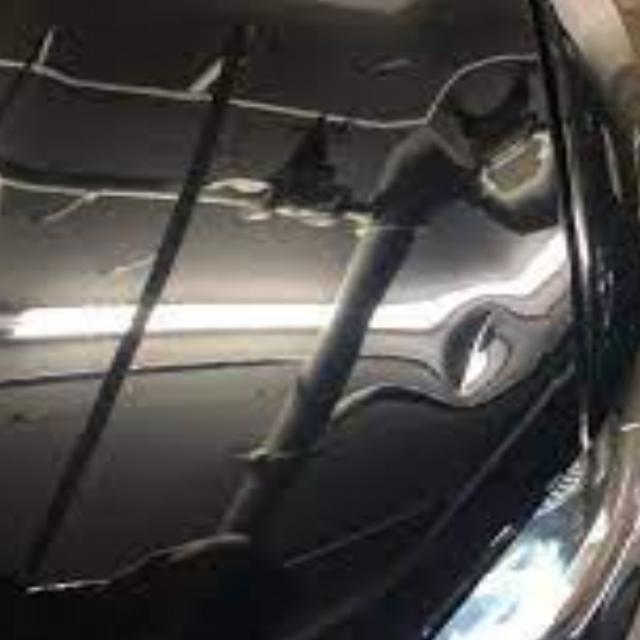dents: (433, 303, 510, 406)
